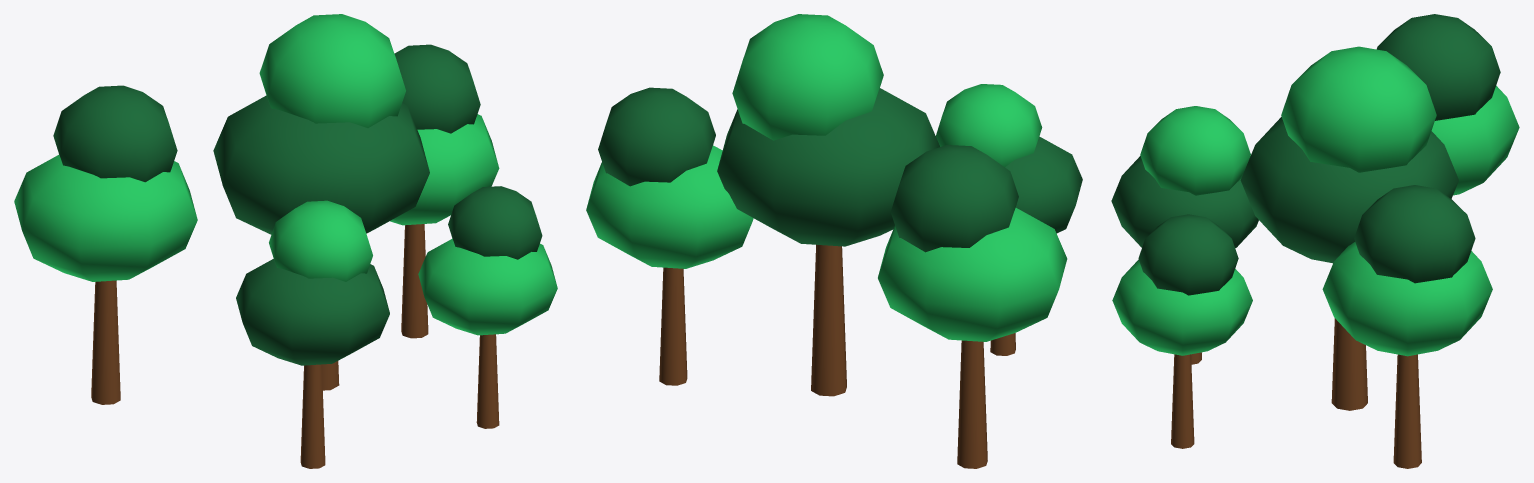
File: tree_cluster.glb
3 renders of one model, left to right at view 1: azimuth 30°, elevation 25°; view 2: azimuth 150°, elevation 25°; view 3: azimuth 270°, elevation 25°, orthographic. The views are drawn at different scales.
Parts seen in each view (by area): view 1: tree_cluster_lower_canopy_2, tree_cluster_lower_canopy_1, tree_cluster_upper_canopy_2, tree_cluster_lower_canopy_4, tree_cluster_lower_canopy_5, tree_cluster_upper_canopy_1, tree_cluster_upper_canopy_4, tree_cluster_lower_canopy_3, tree_cluster_upper_canopy_3, tree_cluster_upper_canopy_5, tree_cluster_trunk_1, tree_cluster_trunk_3 (+2 smaller); view 2: tree_cluster_lower_canopy_2, tree_cluster_lower_canopy_1, tree_cluster_upper_canopy_2, tree_cluster_lower_canopy_3, tree_cluster_upper_canopy_1, tree_cluster_upper_canopy_3, tree_cluster_upper_canopy_4, tree_cluster_trunk_2, tree_cluster_lower_canopy_4, tree_cluster_trunk_1, tree_cluster_trunk_3; view 3: tree_cluster_upper_canopy_2, tree_cluster_lower_canopy_2, tree_cluster_lower_canopy_3, tree_cluster_upper_canopy_3, tree_cluster_lower_canopy_5, tree_cluster_upper_canopy_1, tree_cluster_upper_canopy_4, tree_cluster_upper_canopy_5, tree_cluster_lower_canopy_4, tree_cluster_lower_canopy_1, tree_cluster_trunk_3, tree_cluster_trunk_2 (+1 smaller).
Boxes of the visible parts, <box> form: tree_cluster_lower_canopy_2: <box>213,95,429,234</box>; tree_cluster_lower_canopy_1: <box>14,155,197,281</box>; tree_cluster_upper_canopy_2: <box>259,14,405,127</box>; tree_cluster_lower_canopy_4: <box>236,258,389,365</box>; tree_cluster_lower_canopy_5: <box>418,238,557,335</box>; tree_cluster_upper_canopy_1: <box>53,85,177,182</box>; tree_cluster_upper_canopy_4: <box>269,200,372,281</box>; tree_cluster_lower_canopy_3: <box>390,114,499,225</box>; tree_cluster_upper_canopy_3: <box>394,44,480,133</box>; tree_cluster_upper_canopy_5: <box>448,186,542,259</box>; tree_cluster_trunk_1: <box>91,280,120,404</box>; tree_cluster_trunk_3: <box>401,224,428,338</box>; tree_cluster_lower_canopy_2: <box>717,88,939,246</box>; tree_cluster_lower_canopy_1: <box>878,208,1067,341</box>; tree_cluster_upper_canopy_2: <box>732,14,883,140</box>; tree_cluster_lower_canopy_3: <box>586,145,753,268</box>; tree_cluster_upper_canopy_1: <box>890,145,1018,252</box>; tree_cluster_upper_canopy_3: <box>598,87,715,186</box>; tree_cluster_upper_canopy_4: <box>936,84,1042,166</box>; tree_cluster_trunk_2: <box>811,244,846,396</box>; tree_cluster_lower_canopy_4: <box>1005,136,1082,233</box>; tree_cluster_trunk_1: <box>957,340,987,468</box>; tree_cluster_trunk_3: <box>659,267,687,385</box>; tree_cluster_upper_canopy_2: <box>1281,46,1436,172</box>; tree_cluster_lower_canopy_2: <box>1240,117,1458,263</box>; tree_cluster_lower_canopy_3: <box>1322,242,1492,356</box>; tree_cluster_upper_canopy_3: <box>1354,185,1475,283</box>; tree_cluster_lower_canopy_5: <box>1112,259,1252,355</box>; tree_cluster_upper_canopy_1: <box>1376,14,1500,120</box>; tree_cluster_upper_canopy_4: <box>1140,106,1250,195</box>; tree_cluster_upper_canopy_5: <box>1138,214,1238,295</box>; tree_cluster_lower_canopy_4: <box>1111,156,1258,247</box>; tree_cluster_lower_canopy_1: <box>1431,85,1519,195</box>; tree_cluster_trunk_3: <box>1393,354,1421,468</box>; tree_cluster_trunk_2: <box>1331,318,1367,410</box>.
Bounding box in the file's own units: 4.15 × 3.06 × 3.17.
